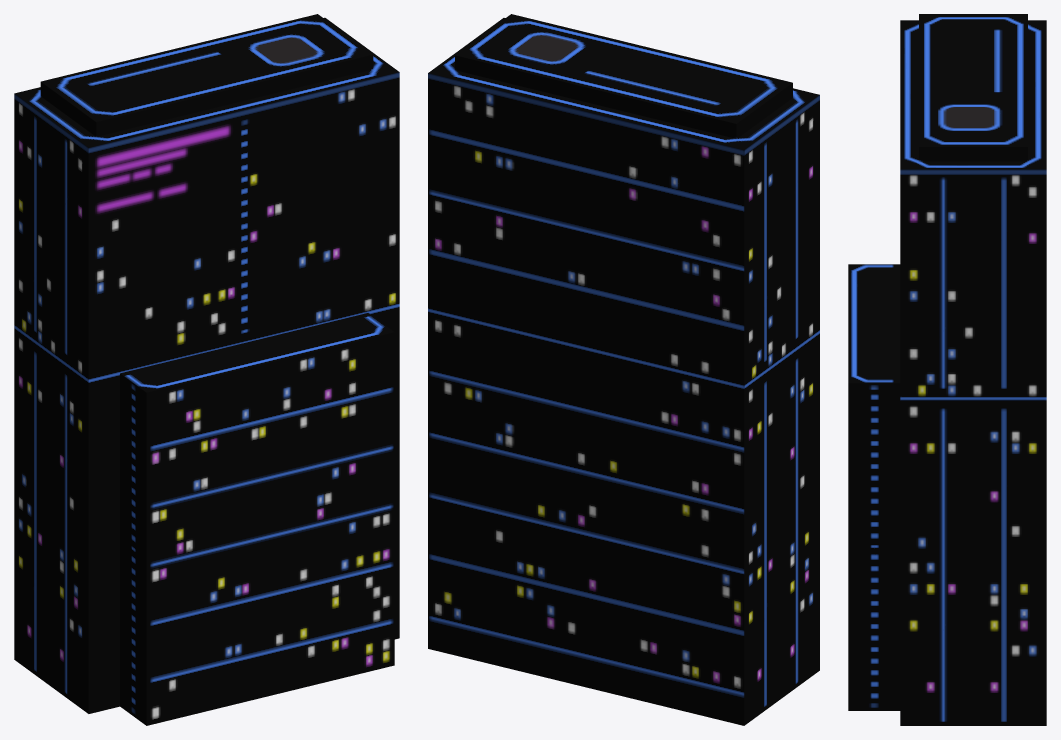
Rendered from bldg_004.fbx.
The picture shows the model from 3 angles, left to right: view 1: azimuth 30°, elevation 25°; view 2: azimuth 150°, elevation 25°; view 3: azimuth 270°, elevation 25°; orthographic projection. The views are drawn at different scales.
Visible parts, largest first — view 1: bldg_004; view 2: bldg_004; view 3: bldg_004.
Part boxes in pixels (x1,y1,x2,y2): bldg_004: (14, 14, 399, 725); bldg_004: (428, 14, 819, 725); bldg_004: (848, 14, 1046, 725).
Bounding box in the file's own units: 256 × 457 × 144.
1 material, 1 textured.
